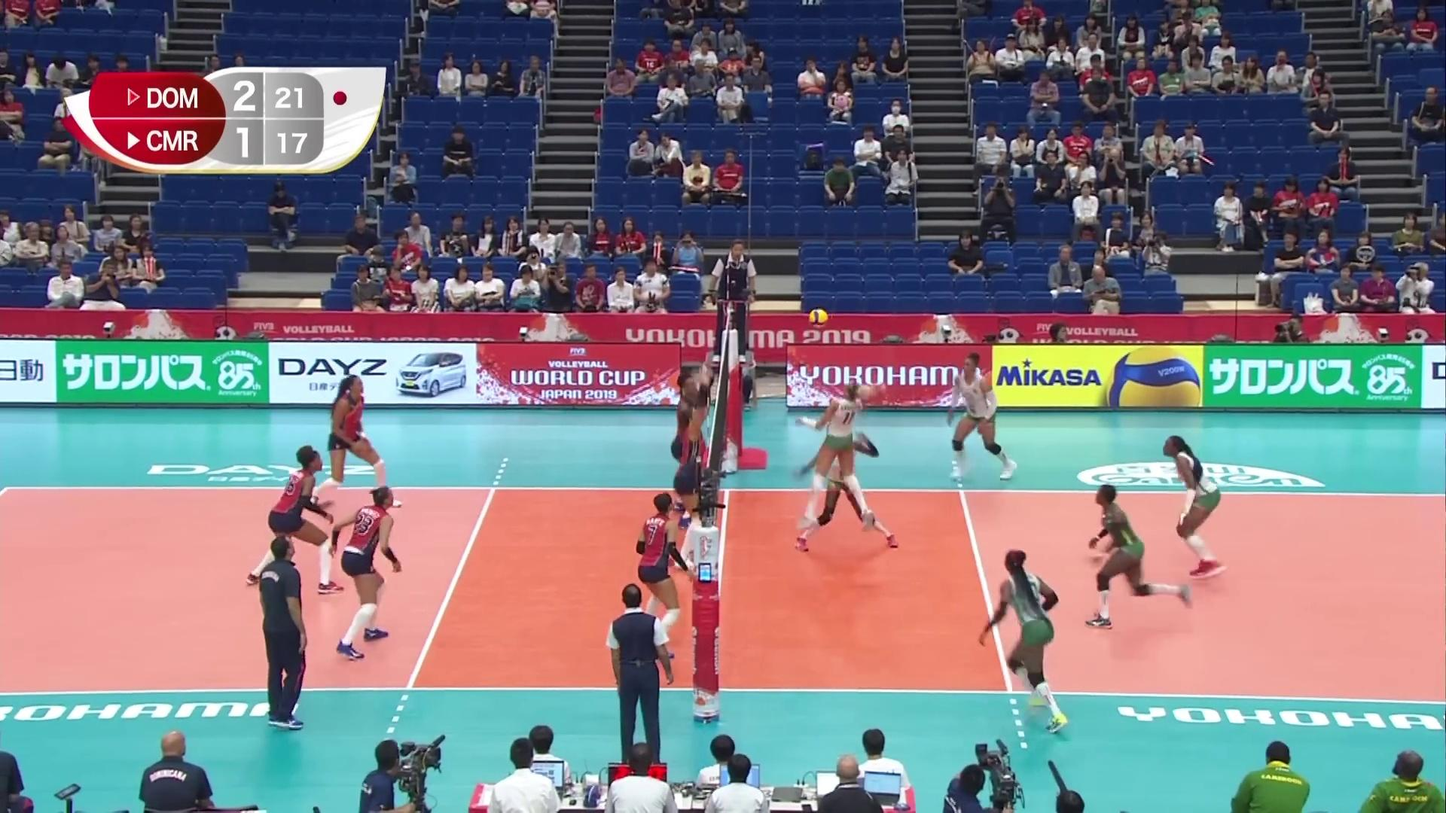player: (1078, 479, 1194, 627), (975, 550, 1067, 736), (795, 420, 896, 548), (329, 486, 403, 658), (256, 452, 336, 592), (633, 494, 699, 655), (324, 374, 399, 508), (1166, 435, 1233, 579), (803, 376, 867, 523), (948, 356, 1014, 482), (668, 395, 710, 566), (668, 374, 708, 531)
refree: (604, 583, 676, 759), (711, 238, 755, 365)
